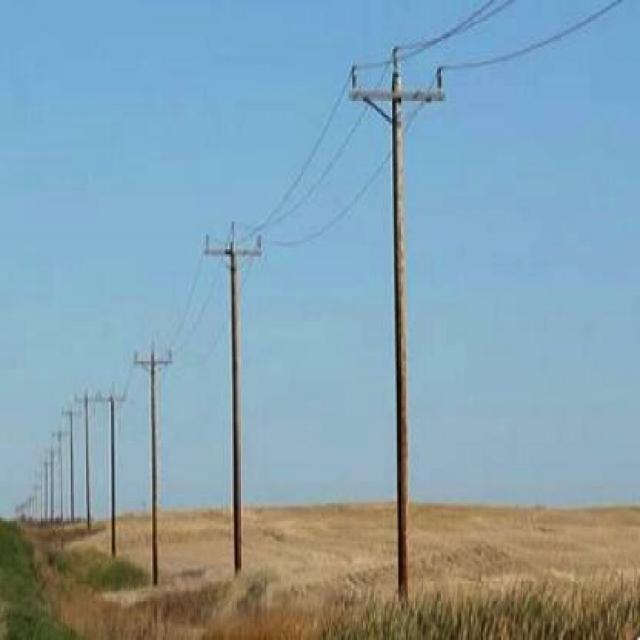crossarm: (350, 89, 443, 99), (205, 250, 264, 255), (136, 360, 171, 364)
pole: (392, 61, 407, 604), (229, 248, 243, 582), (150, 350, 159, 584), (85, 390, 92, 529), (110, 394, 115, 557), (70, 413, 74, 524)
wire: (260, 99, 428, 245), (258, 66, 389, 235), (233, 72, 352, 249), (440, 0, 624, 71), (355, 0, 495, 70), (397, 1, 513, 51)
